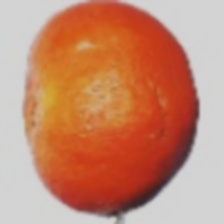tangerine: (4, 8, 186, 199)
